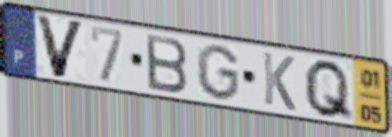7: (88, 24, 126, 86)
B: (143, 31, 190, 96)
G: (194, 42, 242, 103)
K: (261, 49, 298, 114)
Q: (302, 57, 356, 124)
V: (33, 12, 88, 81)
